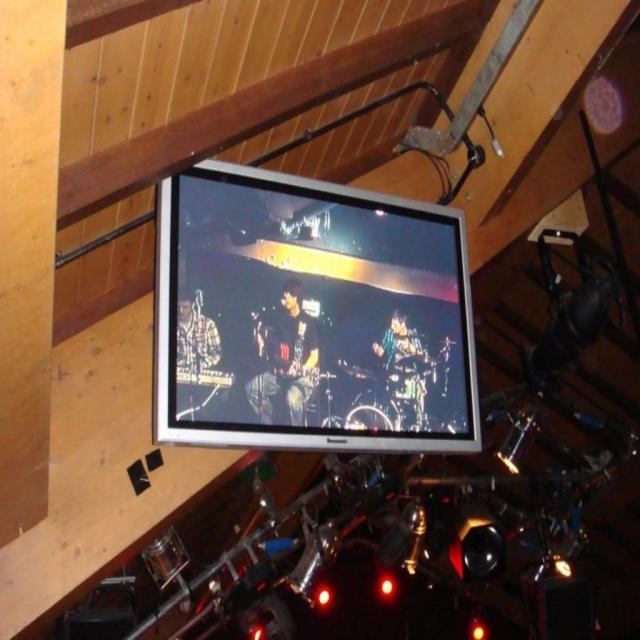others: (146, 142, 493, 473)
